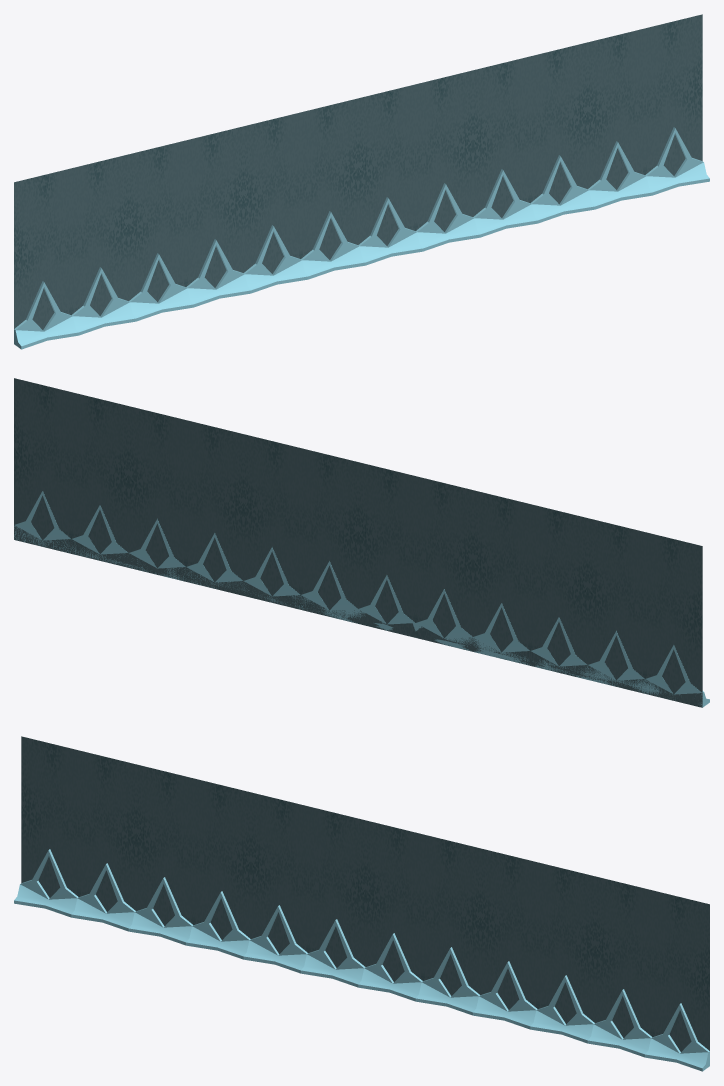
File: OLD_BottomWall.fbx
3 renders of one model, top to bottom at view 1: azimuth 30°, elevation 25°; view 2: azimuth 150°, elevation 25°; view 3: azimuth 330°, elevation 25°, orthographic.
Parts seen in each view (by area): view 1: BareWall.002, Base.002; view 2: BareWall.002, Base.002; view 3: BareWall.002, Base.002.
Boxes of the visible parts, left/top/right/bottom form: BareWall.002: left=14, top=14, right=702, bottom=329; Base.002: left=14, top=127, right=709, bottom=349; BareWall.002: left=14, top=378, right=702, bottom=707; Base.002: left=14, top=491, right=709, bottom=707; BareWall.002: left=21, top=736, right=709, bottom=1051; Base.002: left=14, top=849, right=709, bottom=1071.
Size of the model in its own units: 2400 by 539 by 45.44.
Materials: 1 (1 with a texture image).
